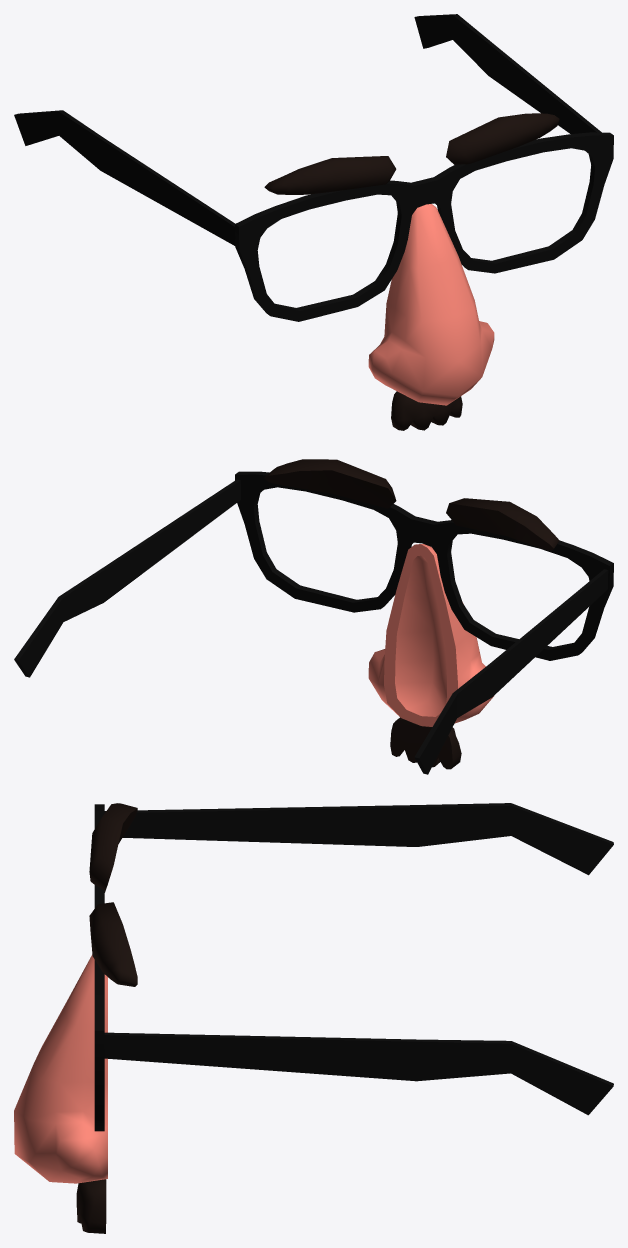
File: DisguiseGlasses.fbx
3 renders of one model, top to bottom at view 1: azimuth 30°, elevation 25°; view 2: azimuth 150°, elevation 25°; view 3: azimuth 270°, elevation 25°, orthographic. The views are drawn at different scales.
Size of the model in its own units: 72.7 by 48.68 by 75.44.
